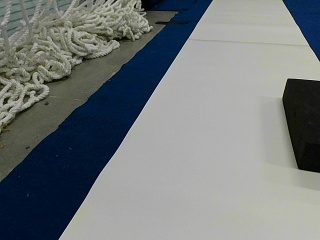block: (282, 77, 319, 172)
